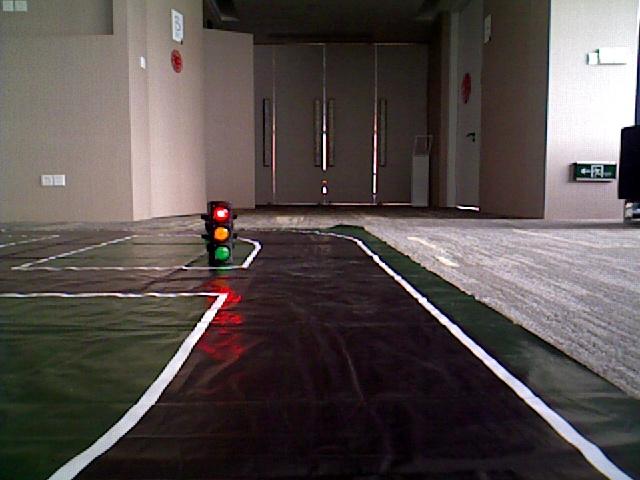red: (211, 202, 231, 258)
